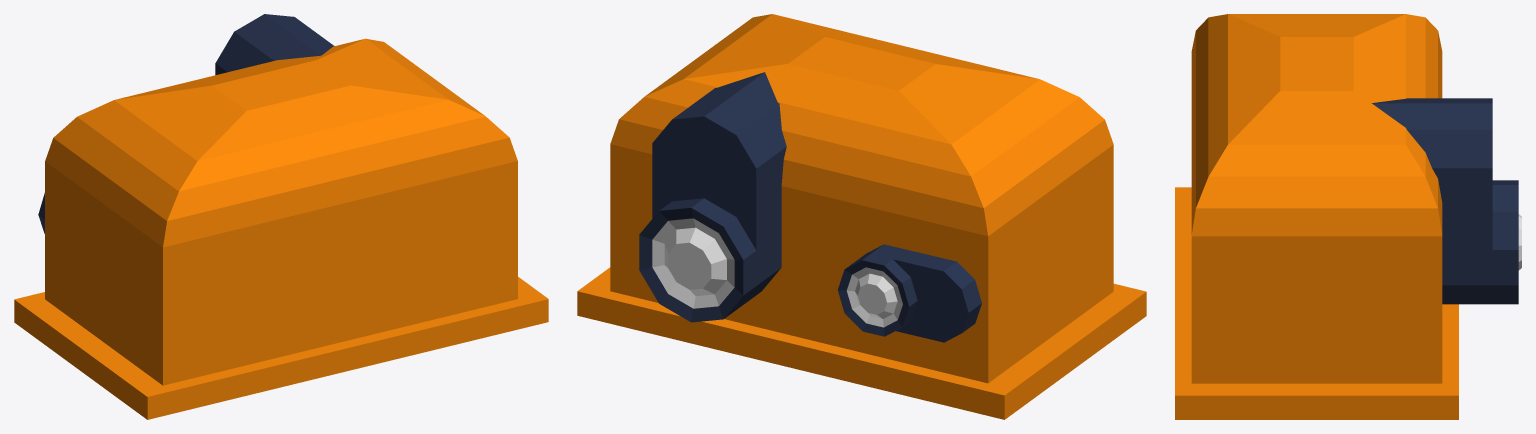
Rendered from 02_Rover_Cabeza.fbx.
3 views of the same model, side by side, from view 1: azimuth 30°, elevation 25°; view 2: azimuth 150°, elevation 25°; view 3: azimuth 270°, elevation 25° (orthographic). The views are drawn at different scales.
Visible parts, largest first — view 1: Cabeza; view 2: Cabeza; view 3: Cabeza.
Boxes of the visible parts, x1,y1,x2,y2 form: Cabeza: (14, 14, 548, 419); Cabeza: (577, 14, 1146, 419); Cabeza: (1175, 14, 1521, 419).
Size of the model in its own units: 104 by 58.35 by 72.8.
